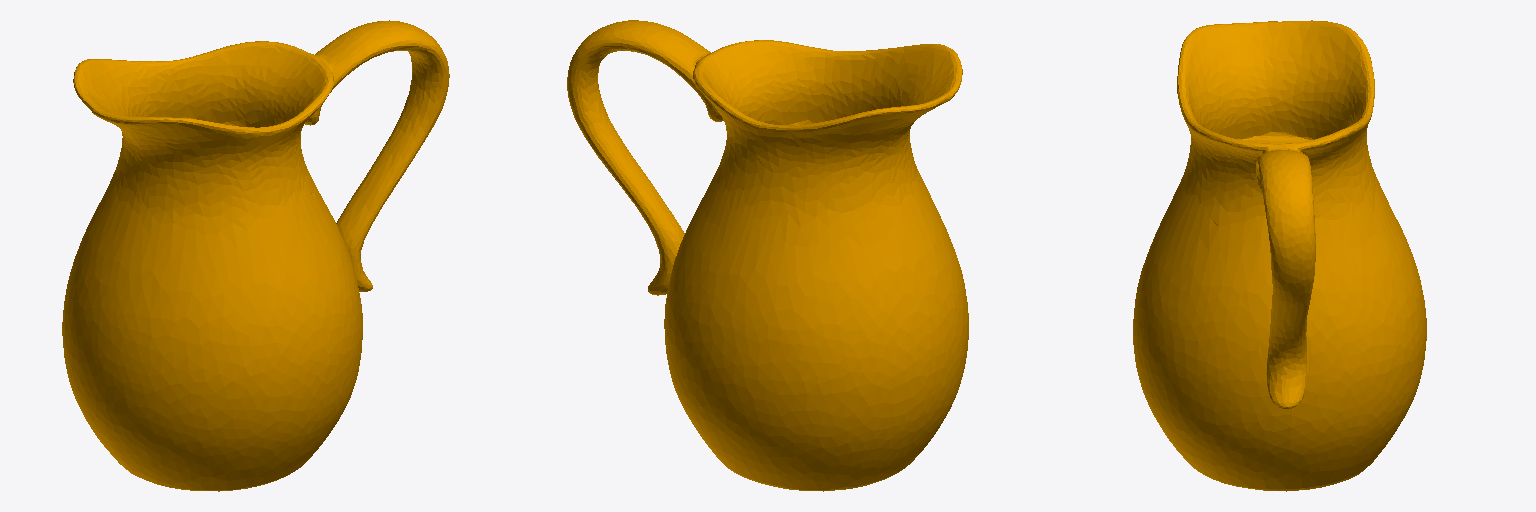
robot.urdf — 3ebm2mp0:
<?xml version='1.0'?>

<robot name="3ebm2mp0">
    <static>false</static>
    <link name="link">
        <inertial>
            <mass value="0.064293650206415"/>
            <inertia ixx="8.266029198713138e-05" ixy="-5.912626582808876e-07" ixz="-4.000396386252756e-06"
                     iyy="9.159984325402039e-05" iyz="2.8870045167463354e-08" izz="5.893012826623162e-05"/>
        </inertial>
        <collision name="collision">
            <geometry>
                <mesh filename="package://miscnet/train/3ebm2mp0/collision_model_vhacd.obj"/>
            </geometry>
        </collision>
        <visual name="visual">
            <geometry>
                <mesh filename="package://miscnet/train/3ebm2mp0/visual_model.obj"/>
            </geometry>
        </visual>
    </link>
</robot>

--- What the picture shows (computed from the rendered views, not written in the file) ---
The picture shows the robot from 3 angles, left to right: view 1: azimuth 30°, elevation 25°; view 2: azimuth 150°, elevation 25°; view 3: azimuth 270°, elevation 25°; orthographic projection.
Model 3ebm2mp0 with 1 links and 0 joints (none), rooted at link, posed every joint at zero.
Visible links, largest first — view 1: link; view 2: link; view 3: link.
Link boxes in pixels (x1=…): link: x1=62, y1=20, x2=449, y2=491; link: x1=567, y1=20, x2=968, y2=491; link: x1=1133, y1=20, x2=1426, y2=491.
Bounding box of the posed robot: 0.1242 × 0.0878 × 0.1253 m (x, y, z).
Meshes: 1 distinct files referenced, 1 mesh visuals loaded (1 OBJ).
